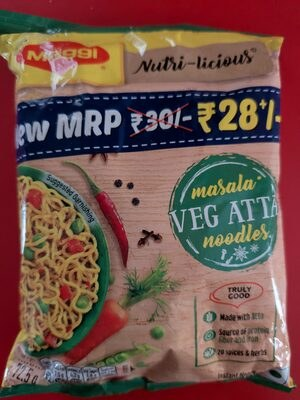Masala Veg Atta Noodles: (15, 20, 285, 380)
